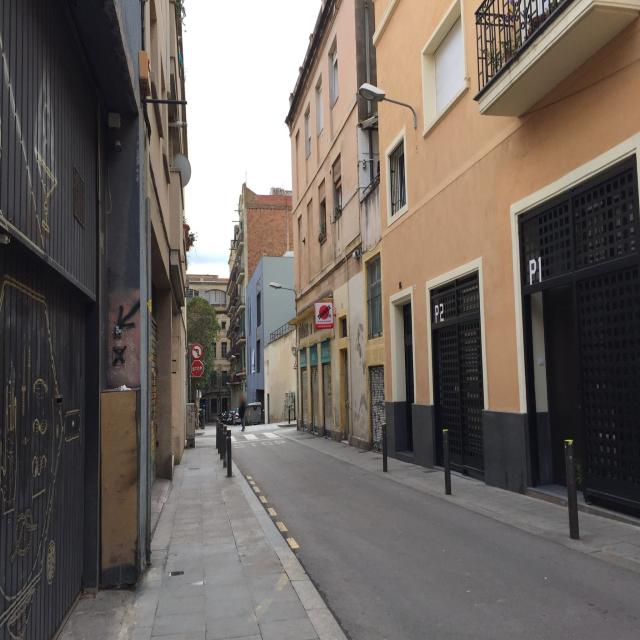car: (240, 402, 263, 425), (225, 410, 236, 425)
